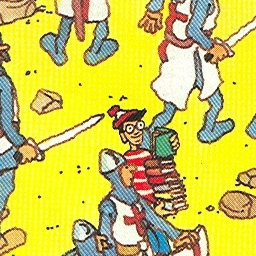waldo: (109, 103, 151, 197), (108, 103, 147, 153)
